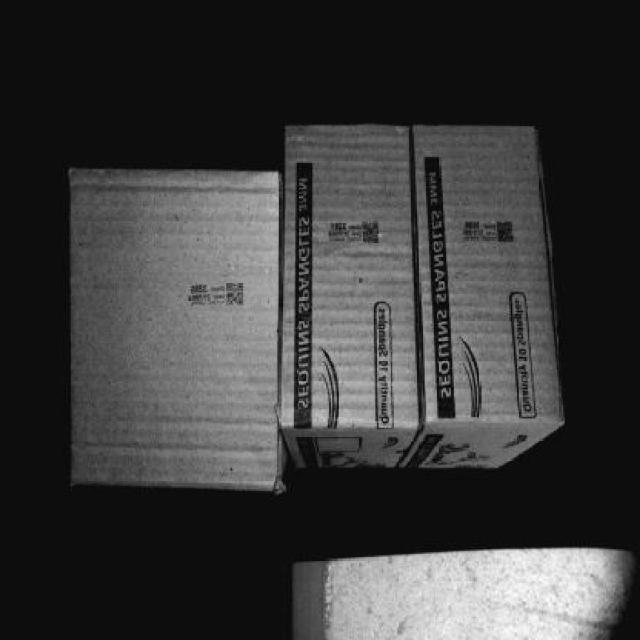cardboxes: (76, 164, 276, 478), (413, 117, 556, 417), (279, 126, 407, 426)
